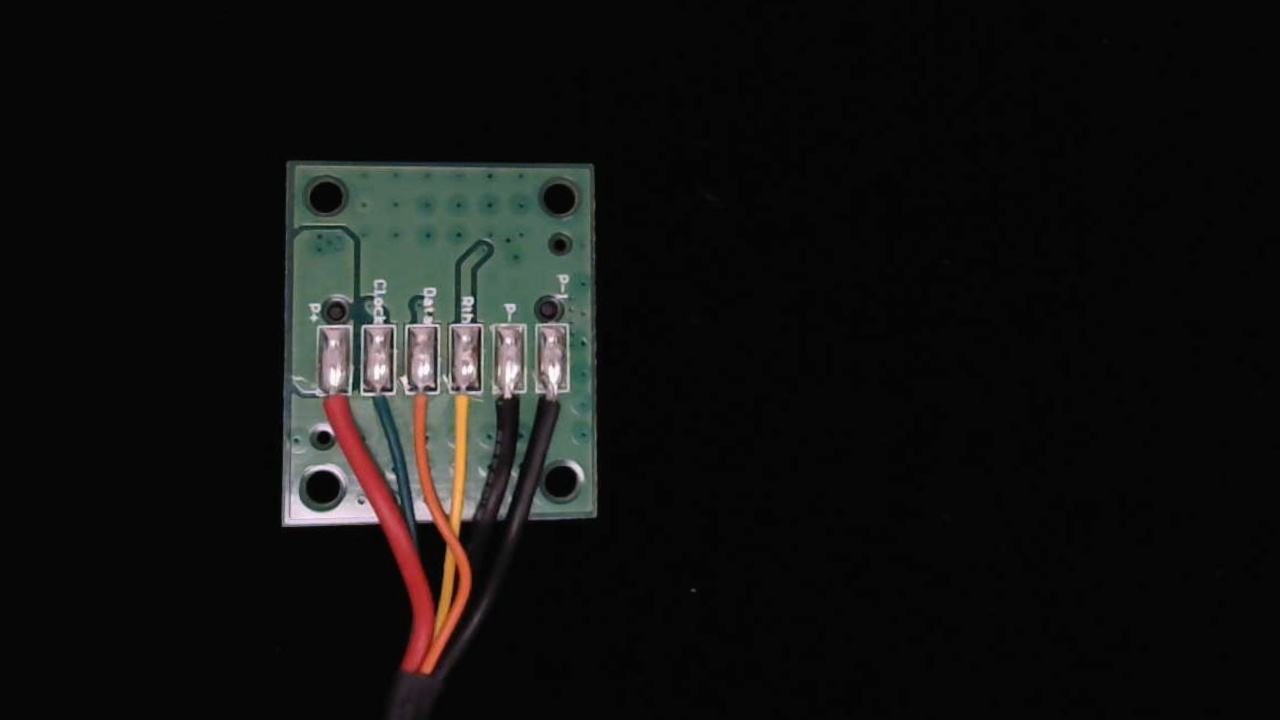Black: (486, 373, 526, 453)
Black1: (533, 375, 571, 449)
Green: (360, 372, 398, 435)
Orange: (403, 374, 441, 444)
Red: (316, 369, 357, 447)
Yellow: (442, 374, 482, 456)
